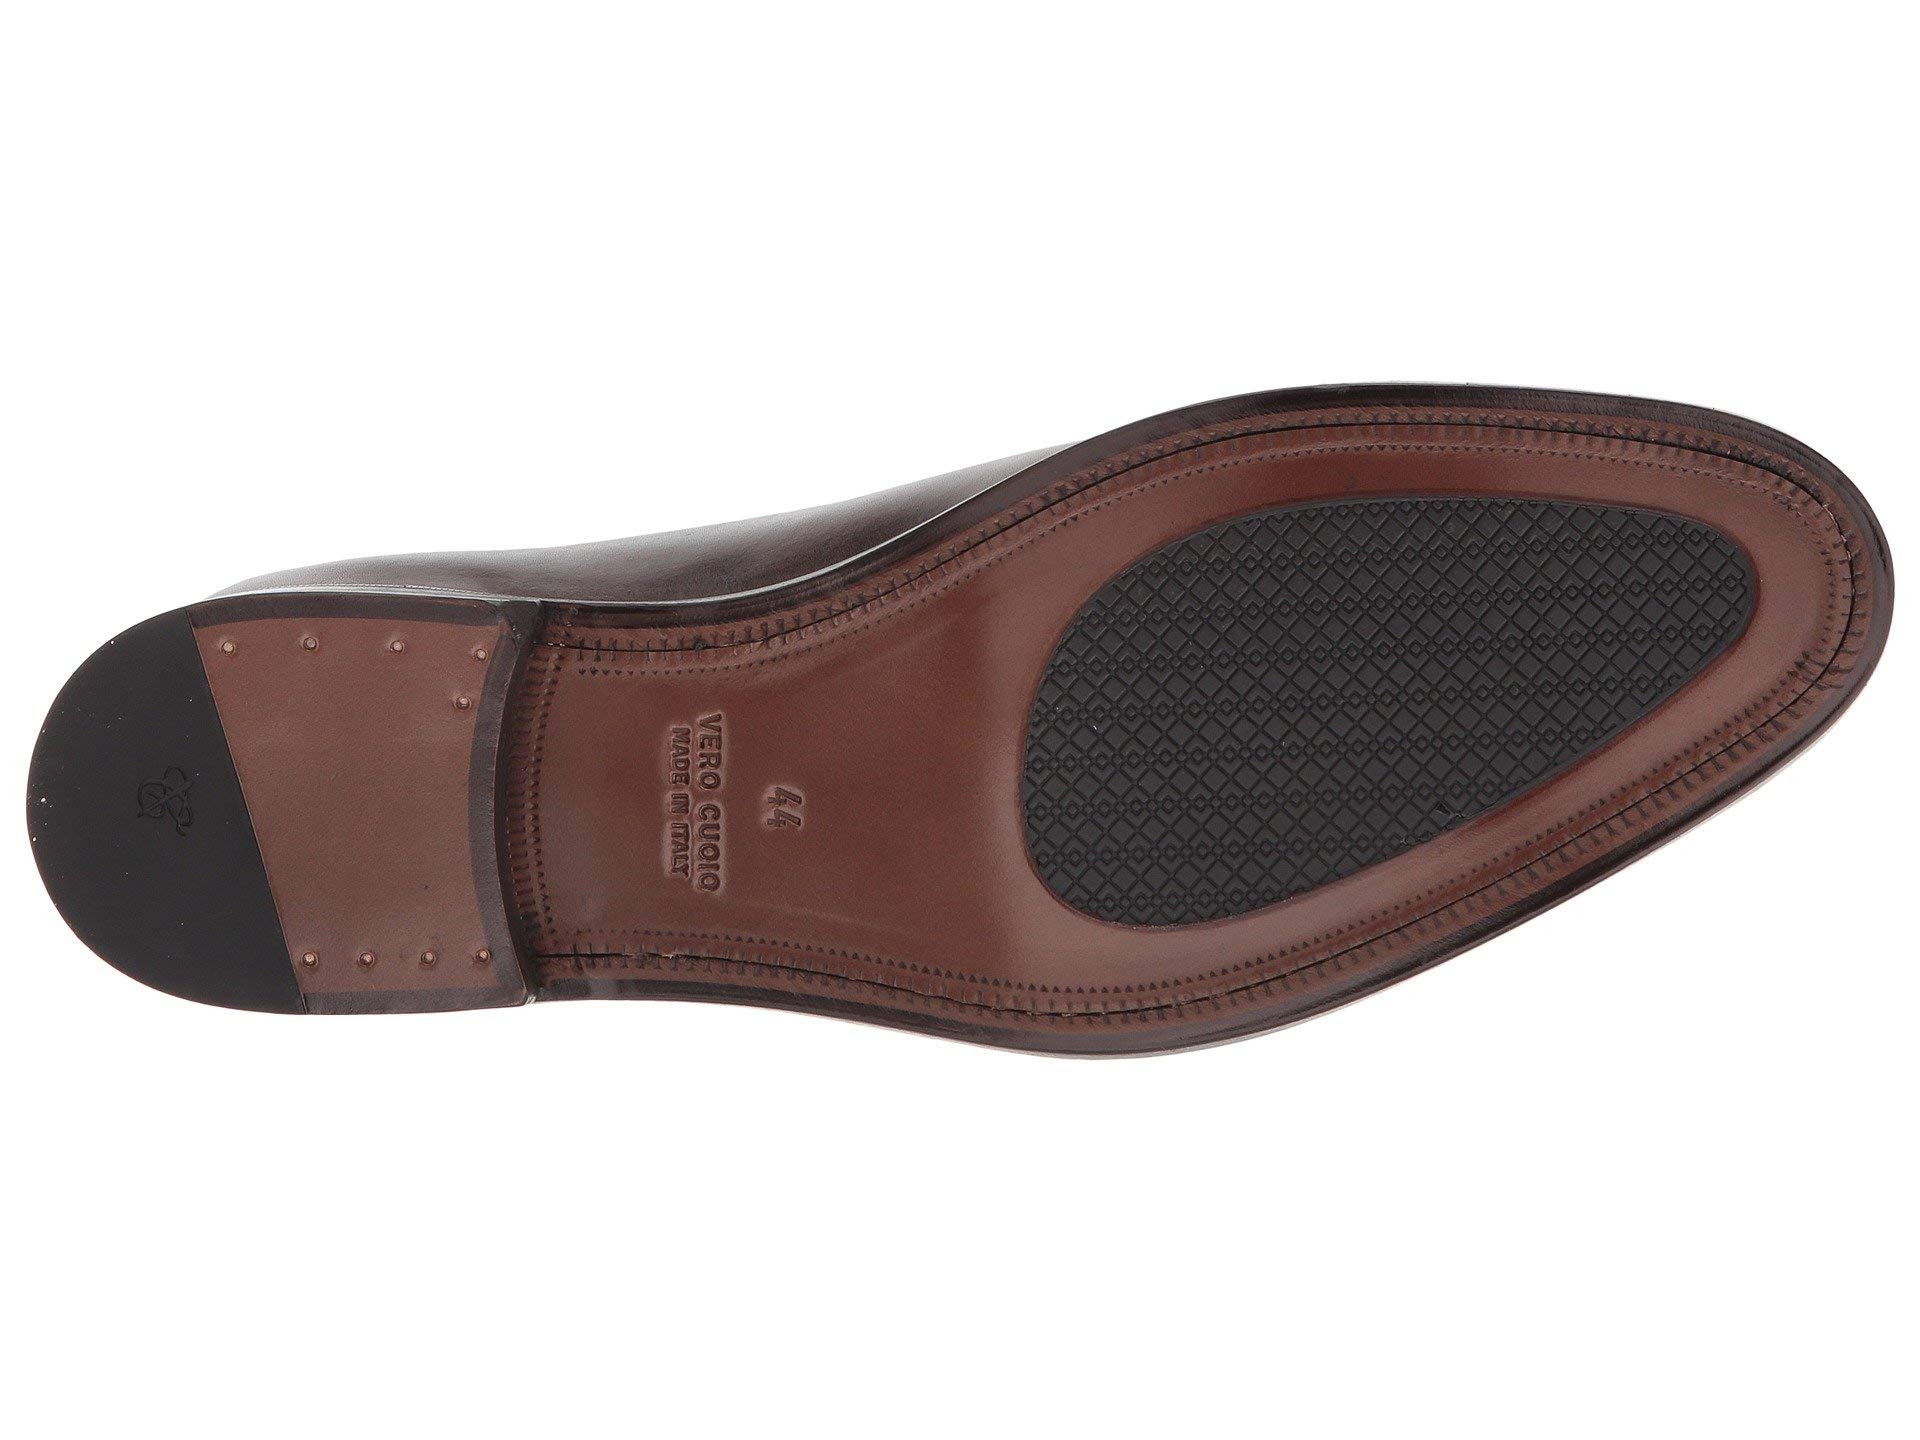quad: (1185, 578, 1442, 820)
